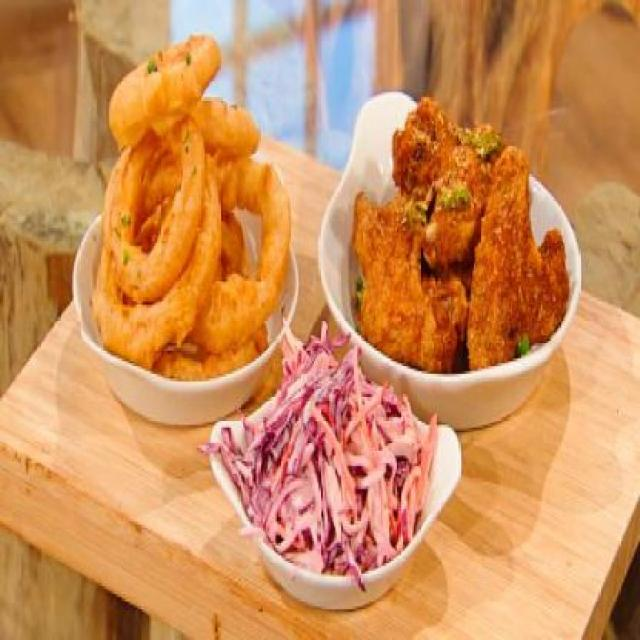chicken wings: (344, 68, 570, 364)
onion rings: (69, 10, 288, 368)
